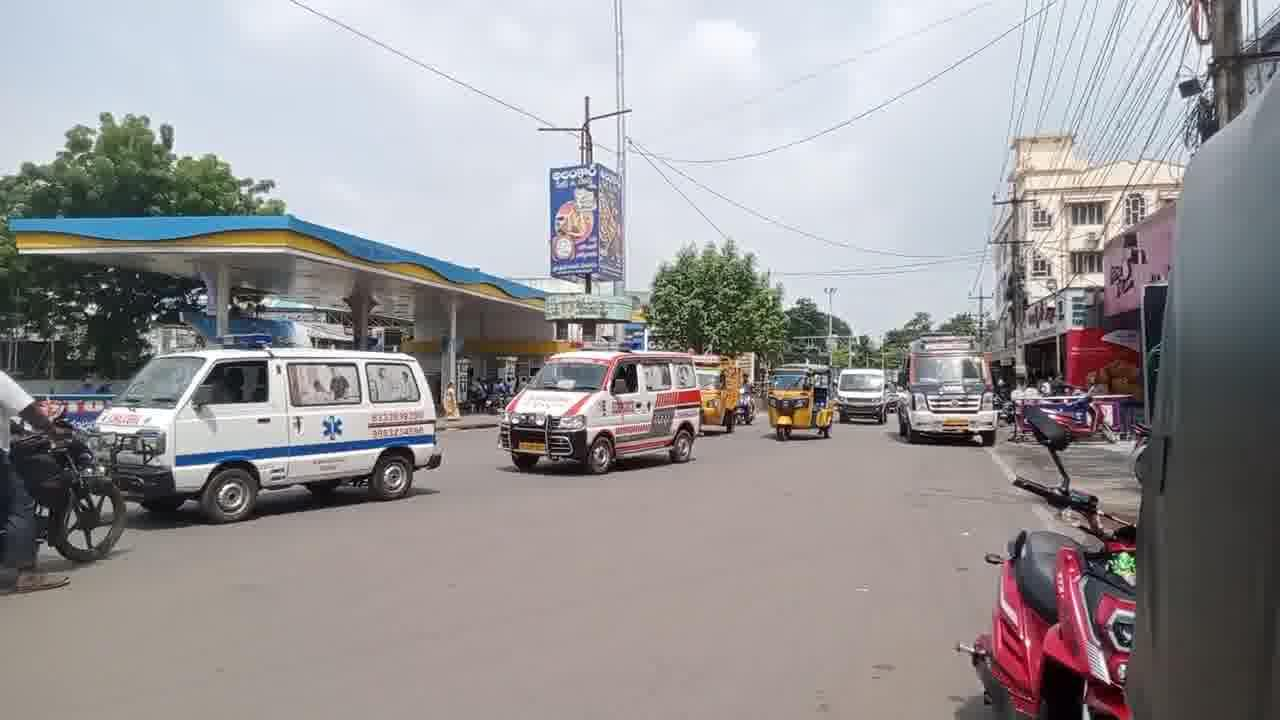AMBULANCE: (83, 363, 475, 490), (496, 346, 730, 461), (875, 323, 1018, 451)
